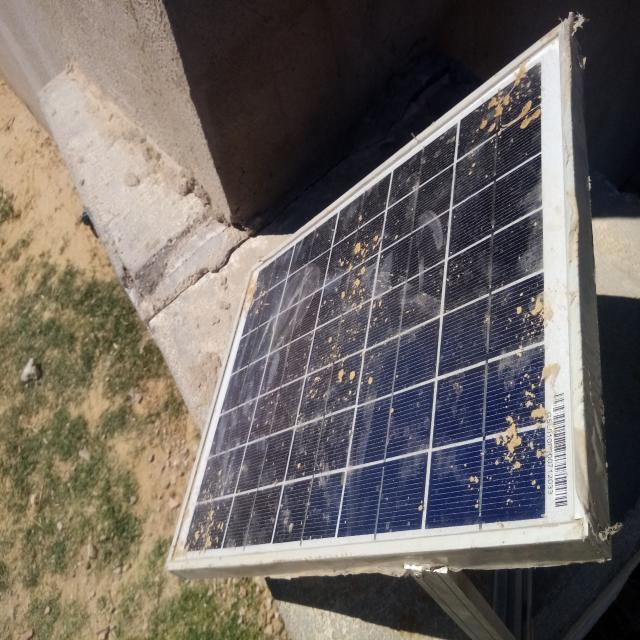faulty: (168, 16, 588, 568)
